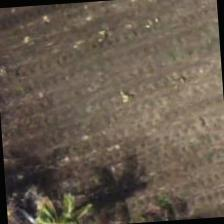Kelapa_Sawit: (8, 176, 103, 223)
